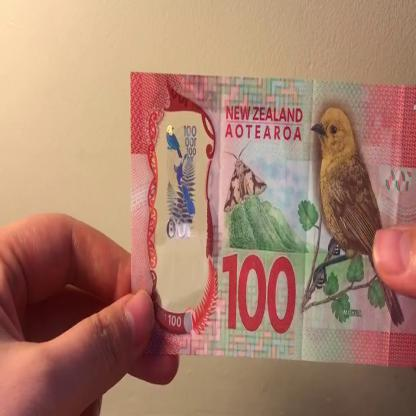100B: (158, 112, 204, 296)
